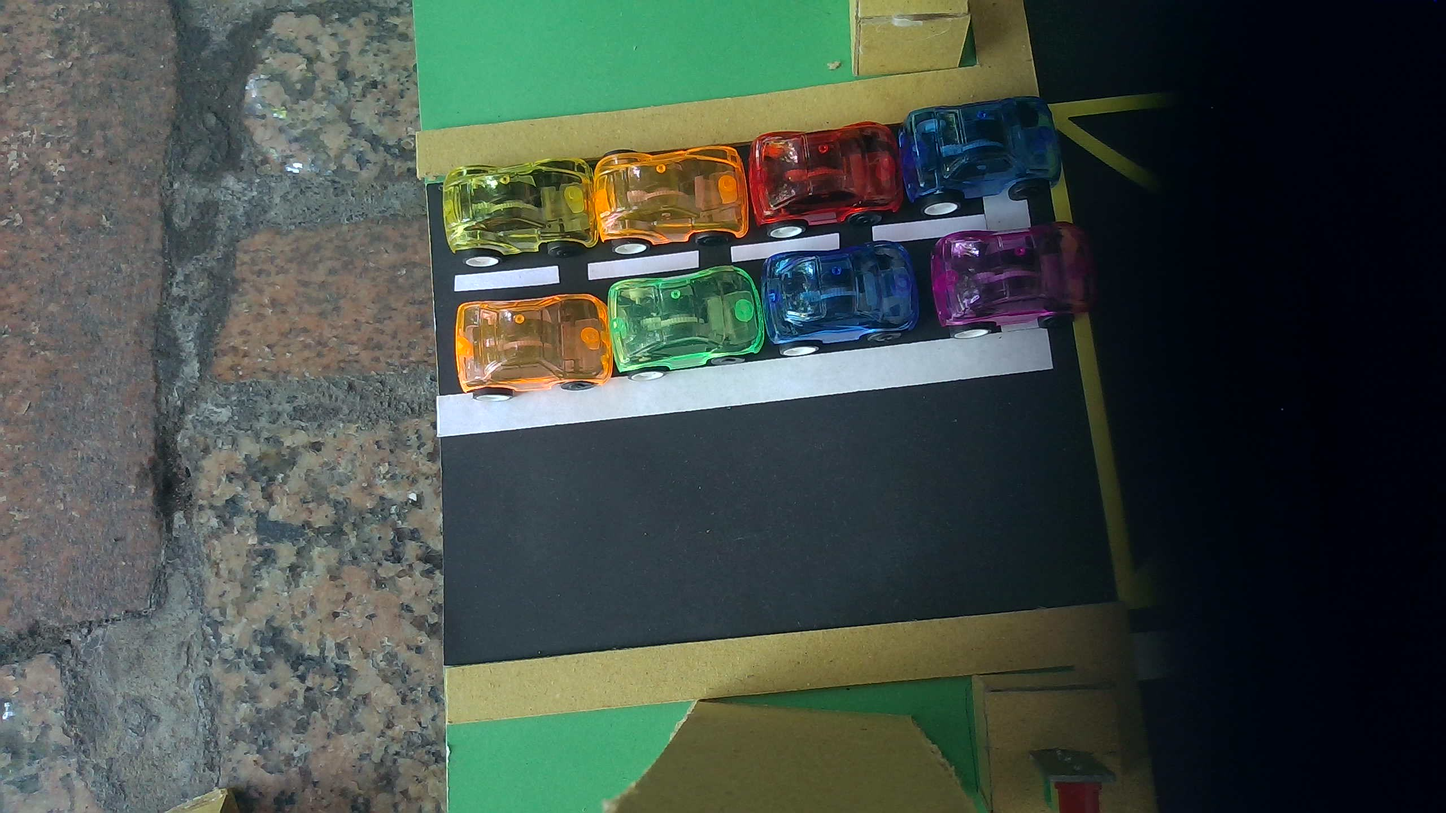Mobil biru: (897, 97, 1061, 216), (761, 241, 919, 356)
Mobil hijau: (607, 266, 765, 379)
Mobil kuning: (442, 159, 597, 267)
Mobil merah: (748, 122, 903, 238)
Mobil orange: (592, 145, 748, 253), (455, 294, 612, 400)
Mobil ungu: (931, 222, 1095, 338)
